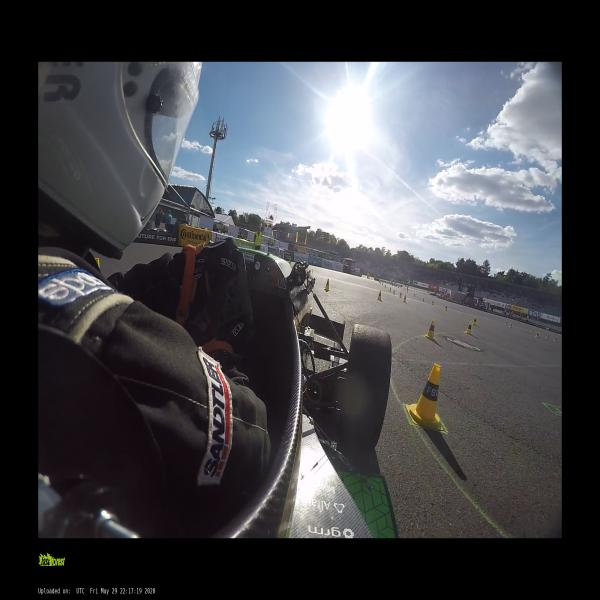yellow_cone: (408, 362, 442, 429), (425, 318, 437, 342), (465, 321, 472, 334), (324, 278, 330, 291), (472, 317, 477, 326), (377, 290, 381, 301), (403, 294, 406, 302), (535, 332, 539, 338), (399, 292, 402, 298), (504, 321, 508, 325), (509, 323, 512, 328), (290, 258, 292, 265), (445, 306, 447, 312), (432, 300, 434, 306), (393, 289, 395, 295), (555, 337, 557, 342), (389, 287, 391, 292), (547, 334, 549, 339), (422, 298, 424, 302), (385, 284, 386, 288), (414, 293, 415, 296)
